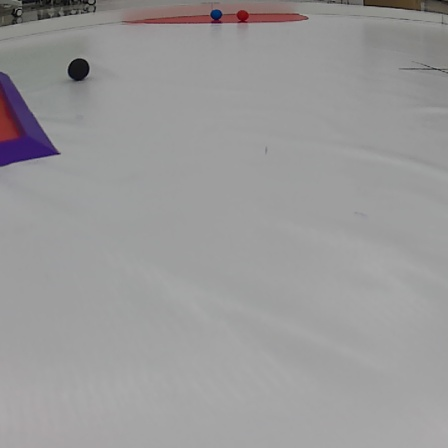black: (65, 56, 91, 83)
blue: (209, 8, 224, 20)
red: (237, 9, 249, 21)
red_aim: (0, 71, 64, 163)
red_base: (123, 9, 310, 22)
